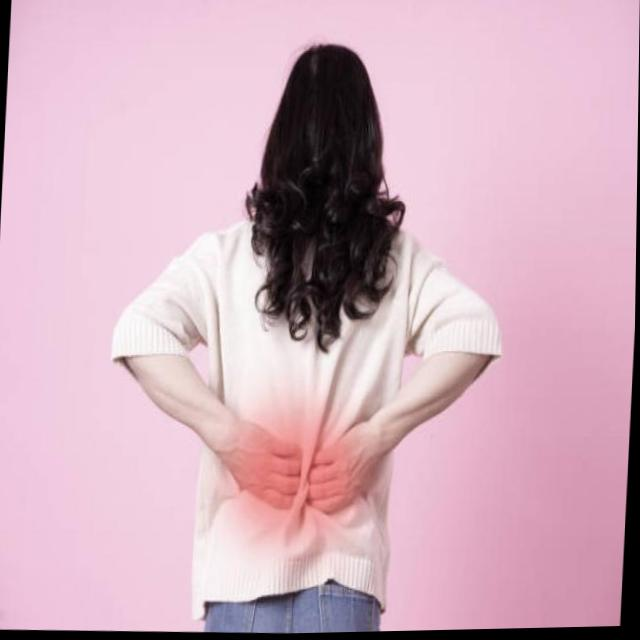no helmet: (250, 34, 394, 228)
